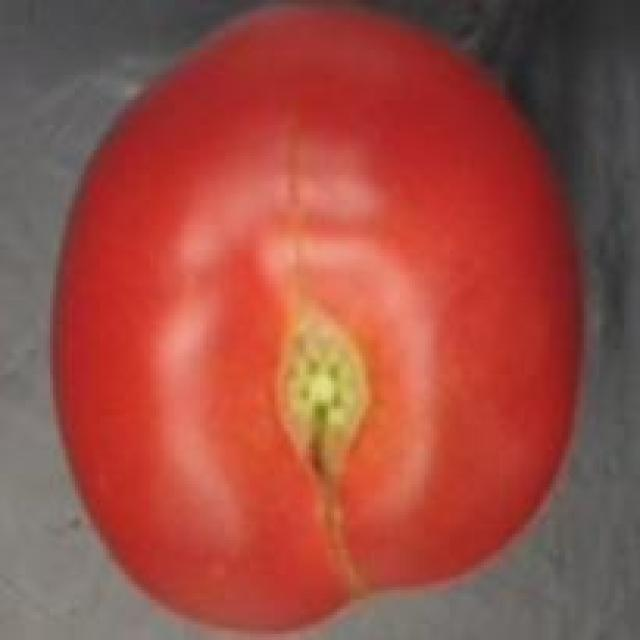overripe tomato: (34, 6, 600, 640)
